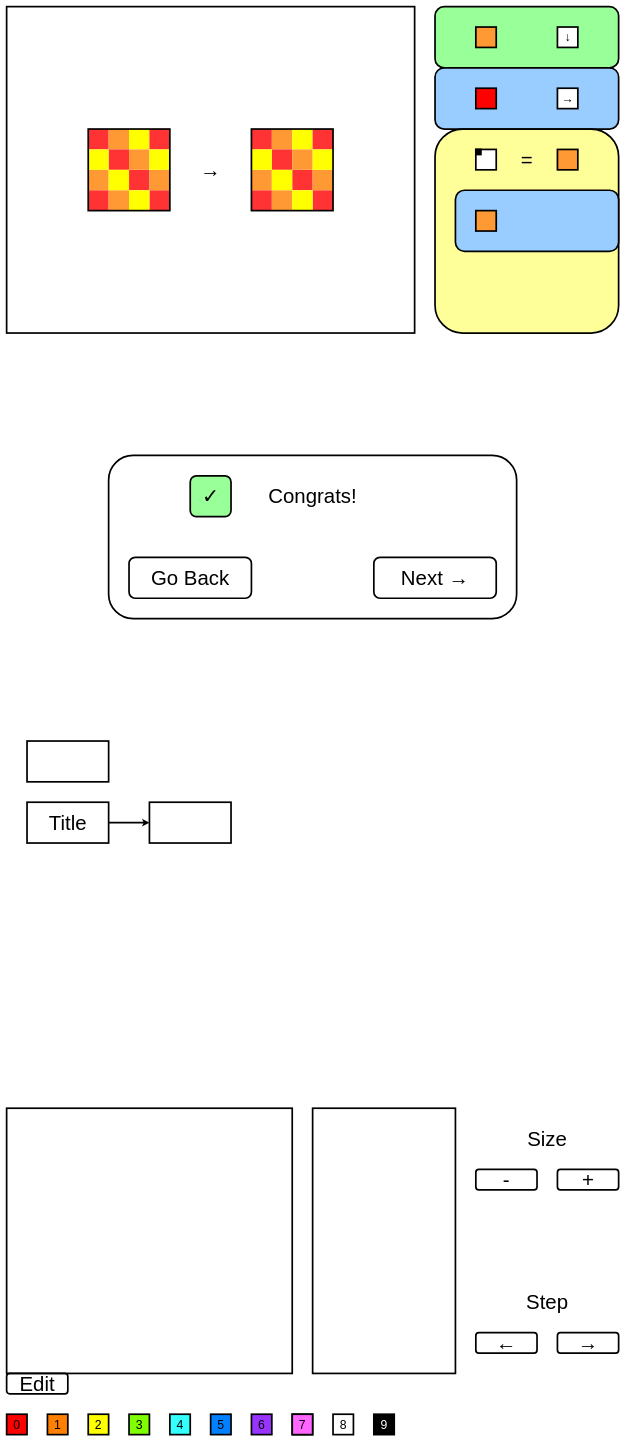
Image size: 625x1441. Some labels were removed from this diagram. Here are the shapes that lost their labels. From the top down, the box of each, then its label:
(26, 740, 109, 783): Game
(148, 801, 232, 844): Menu
